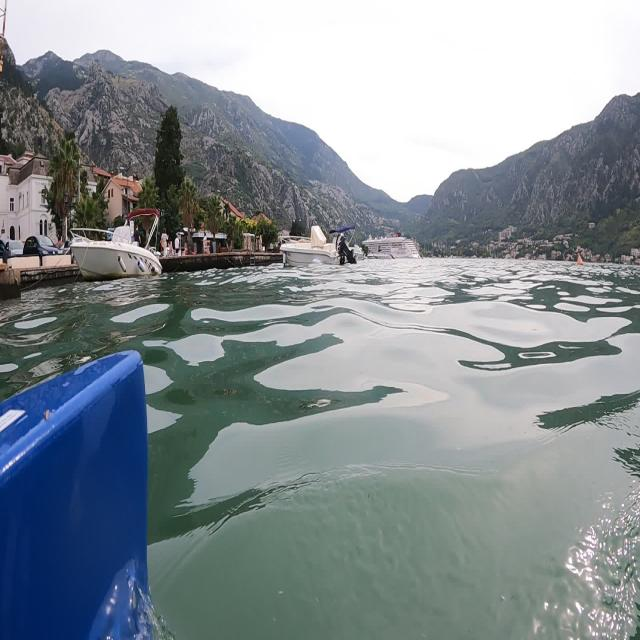boat: (63, 204, 168, 290), (273, 204, 363, 284), (360, 217, 426, 271)
